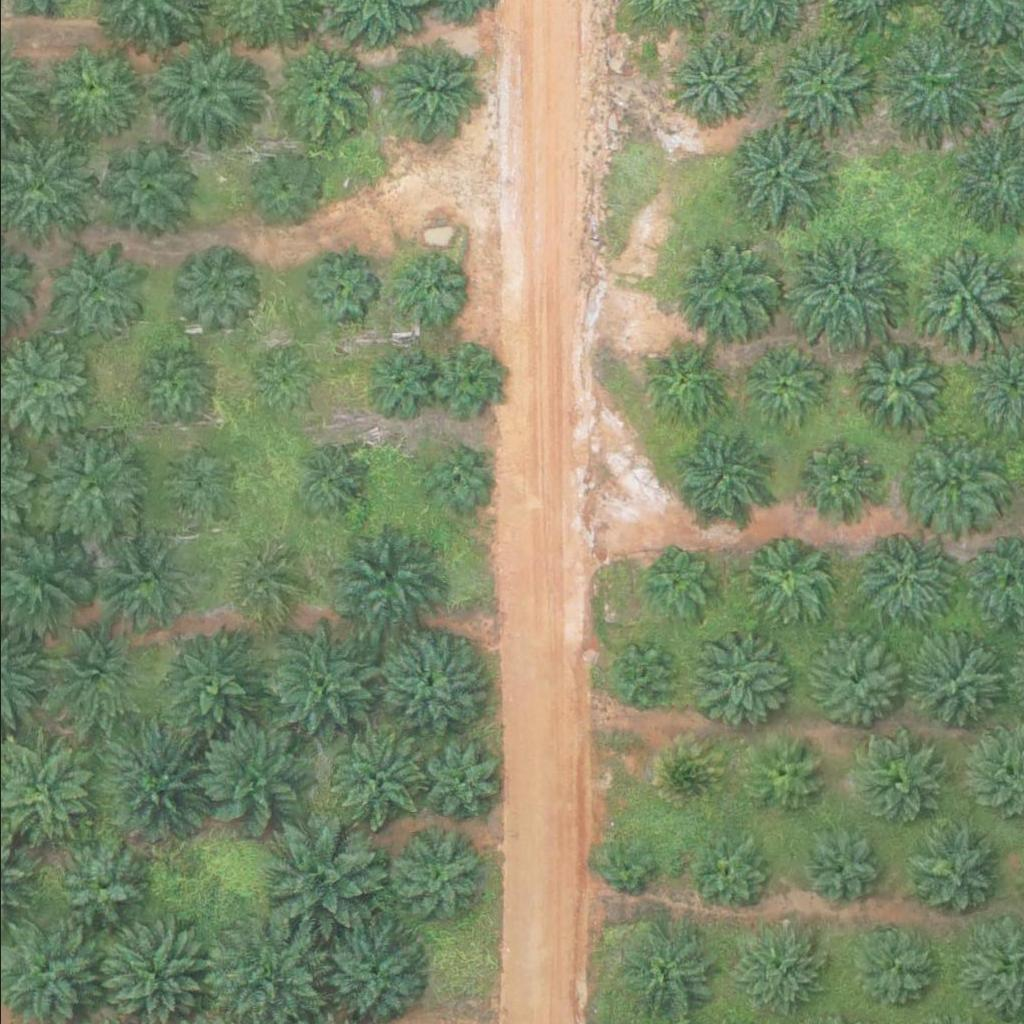Kelapa_Sawit: (321, 514, 447, 639), (260, 621, 386, 746), (190, 716, 316, 841), (257, 813, 383, 938), (146, 36, 260, 149), (869, 28, 982, 141), (784, 237, 897, 350), (37, 430, 150, 542), (151, 630, 264, 742), (35, 617, 148, 729), (98, 729, 211, 841), (905, 254, 1006, 354), (669, 430, 770, 530), (683, 243, 784, 343), (726, 128, 827, 228), (769, 36, 870, 136), (382, 631, 483, 731), (890, 433, 990, 533), (804, 635, 904, 735), (686, 631, 786, 731), (37, 38, 137, 138), (93, 140, 193, 240), (44, 242, 144, 342), (326, 730, 426, 830), (320, 920, 420, 1020), (639, 340, 728, 428), (853, 738, 941, 826), (853, 340, 941, 428), (913, 641, 1001, 729), (792, 442, 880, 530), (741, 343, 829, 431), (667, 41, 755, 129), (170, 247, 258, 335), (127, 342, 215, 430), (57, 844, 145, 932), (853, 923, 941, 1010), (741, 925, 829, 1012), (904, 828, 992, 915), (858, 535, 946, 622), (739, 541, 827, 628), (390, 48, 478, 135), (276, 50, 364, 137), (104, 539, 192, 626), (417, 736, 505, 823), (391, 830, 479, 917), (740, 738, 816, 813), (801, 828, 877, 903), (692, 835, 768, 910), (651, 739, 727, 814), (602, 637, 678, 712), (241, 156, 317, 231), (224, 545, 299, 620), (644, 547, 719, 622), (391, 253, 466, 328), (299, 253, 374, 328), (433, 337, 508, 412), (355, 341, 430, 416), (418, 439, 493, 514), (288, 442, 363, 517), (158, 448, 233, 523), (592, 837, 655, 899), (248, 347, 311, 409)
